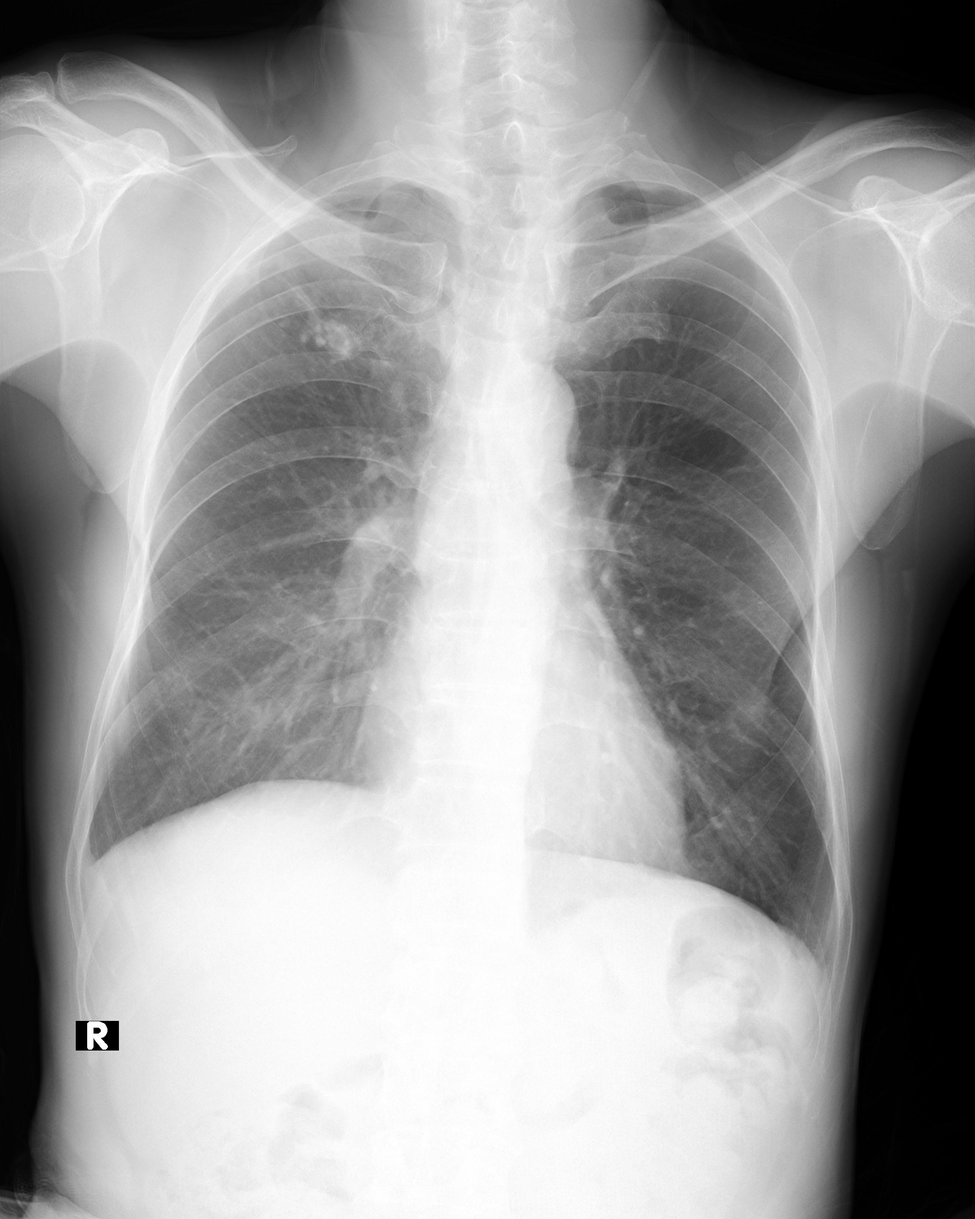Pleural thickening: (74, 852, 99, 883)
Pulmonary fibrosis: (270, 269, 366, 365)
